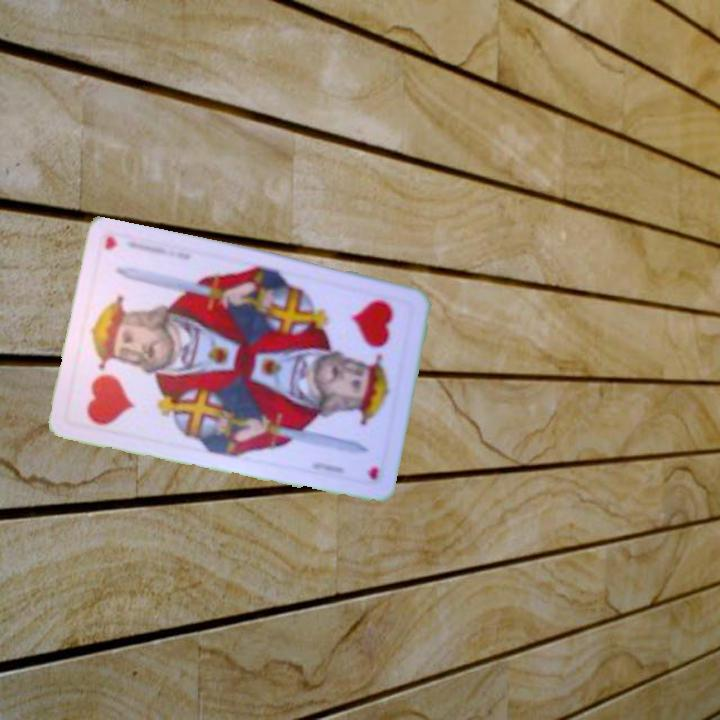h_k.png: (313, 281, 416, 395), (63, 326, 166, 440)
